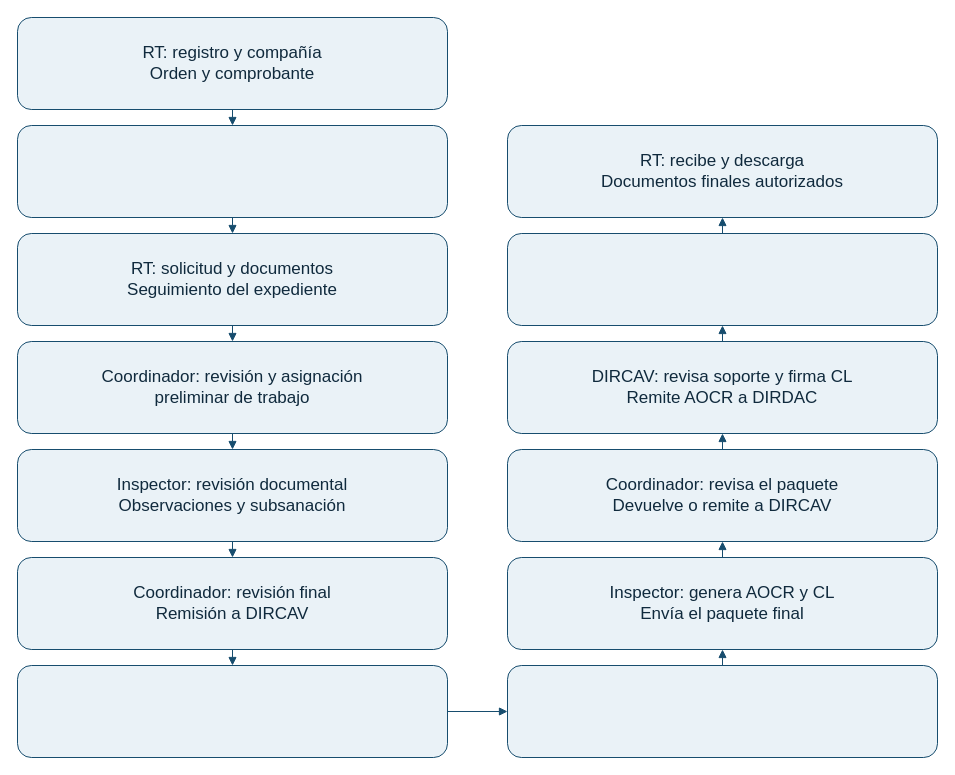
Image size: 955x775. Some labels were removed from this diagram. The shapes that lost their labels are listed below. From the top down, each one's centre as x and y in pixels, then its label:
At point (232, 171): "Financiero: validación y factura Seguimiento FR3".
At point (722, 279): "DIRDAC: revisa y firma AOCR Evalúa firmas y cierre".
At point (232, 711): "DIRCAV: aceptación y designación Oficio institucional".
At point (722, 711): "Inspector: LV e informe por estación NC o resultado satisfactorio".
